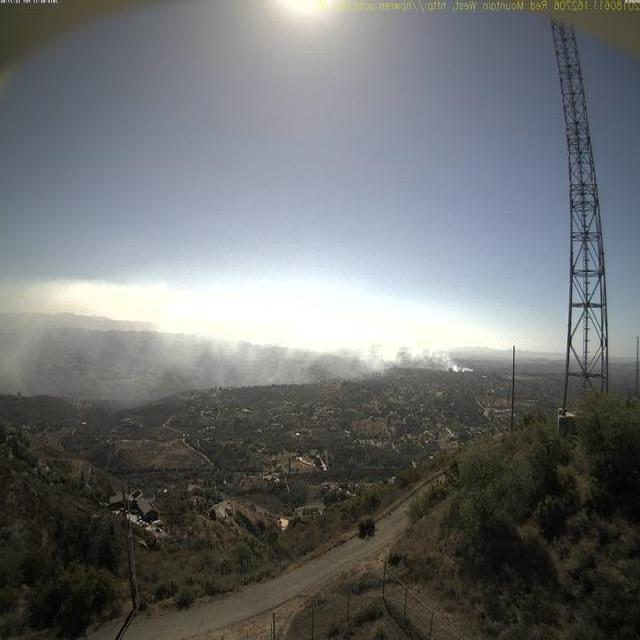Smoke: (131, 320, 476, 390)
